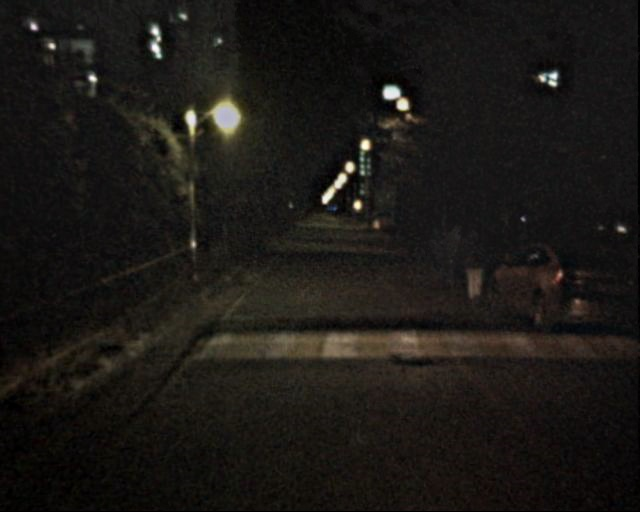person: (456, 225, 488, 304), (422, 224, 453, 289), (443, 223, 471, 288)
